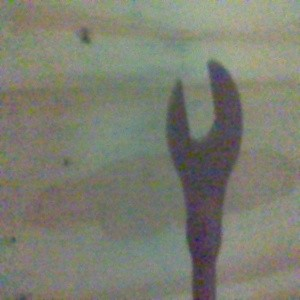spanner: (165, 58, 244, 300)
